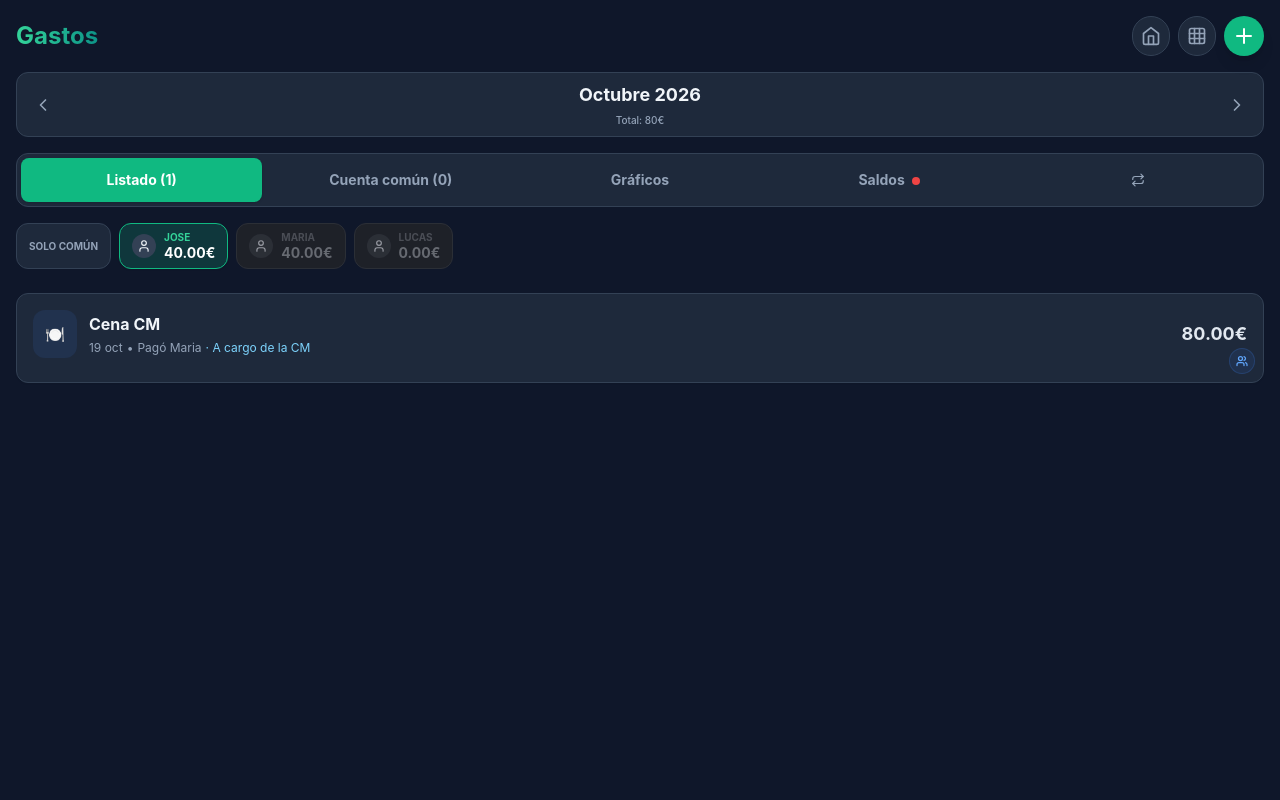
Scenario: Expenses Financial Core › keeps monthly personal debts separate from CM debts
The width and height of the screenshot is (1280, 800).
Click the button "Saldos" at (889, 180), box [769,158,1010,202]
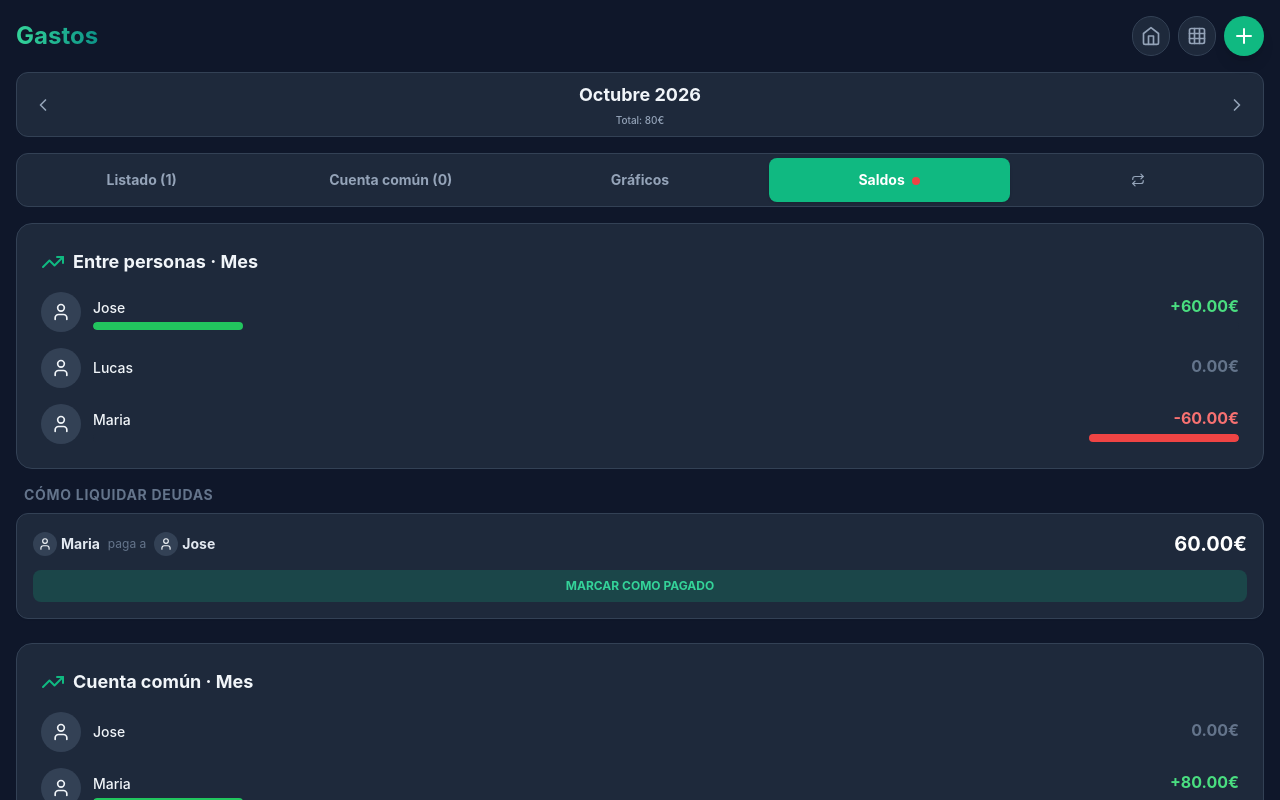
Expected: the text "+60.00€" is shown, [1170,294,1239,318]
Expected: the text "-60.00€" is shown, [1173,406,1239,430]
Expected: the text "Maria" is shown 2 times
